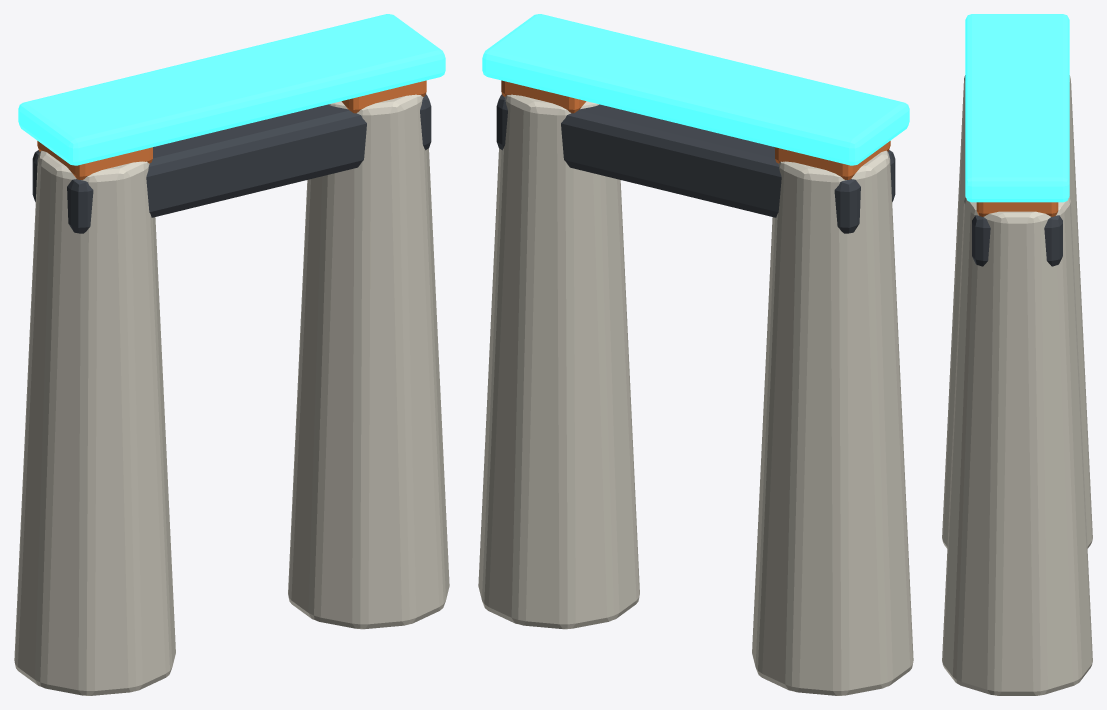
File: human_gate.glb
The picture shows the model from 3 angles, left to right: view 1: azimuth 30°, elevation 25°; view 2: azimuth 150°, elevation 25°; view 3: azimuth 270°, elevation 25°; orthographic projection. The views are drawn at different scales.
Visible parts, largest first — view 1: gate_pylon, gate_pylon.001, portal_light, gate_arch, gate_light, gate_light.001; view 2: gate_pylon, gate_pylon.001, portal_light, gate_arch, gate_light, gate_light.001; view 3: gate_pylon.001, portal_light, gate_pylon, gate_arch, gate_light.001.
Boxes of the visible parts, x1,y1,x2,y2 form: gate_pylon: [14, 150, 175, 695]; gate_pylon.001: [288, 93, 449, 629]; portal_light: [18, 14, 445, 165]; gate_arch: [32, 94, 431, 233]; gate_light: [37, 141, 152, 179]; gate_light.001: [341, 80, 426, 113]; gate_pylon: [752, 150, 913, 695]; gate_pylon.001: [478, 93, 639, 629]; portal_light: [482, 14, 909, 165]; gate_arch: [496, 94, 895, 233]; gate_light: [775, 141, 890, 179]; gate_light.001: [501, 80, 586, 113]; gate_pylon.001: [942, 197, 1092, 695]; portal_light: [965, 14, 1069, 202]; gate_pylon: [942, 75, 1092, 548]; gate_arch: [972, 215, 1062, 266]; gate_light.001: [976, 202, 1058, 216].
Size of the model in its own units: 1.92 by 2.48 by 0.6643.
